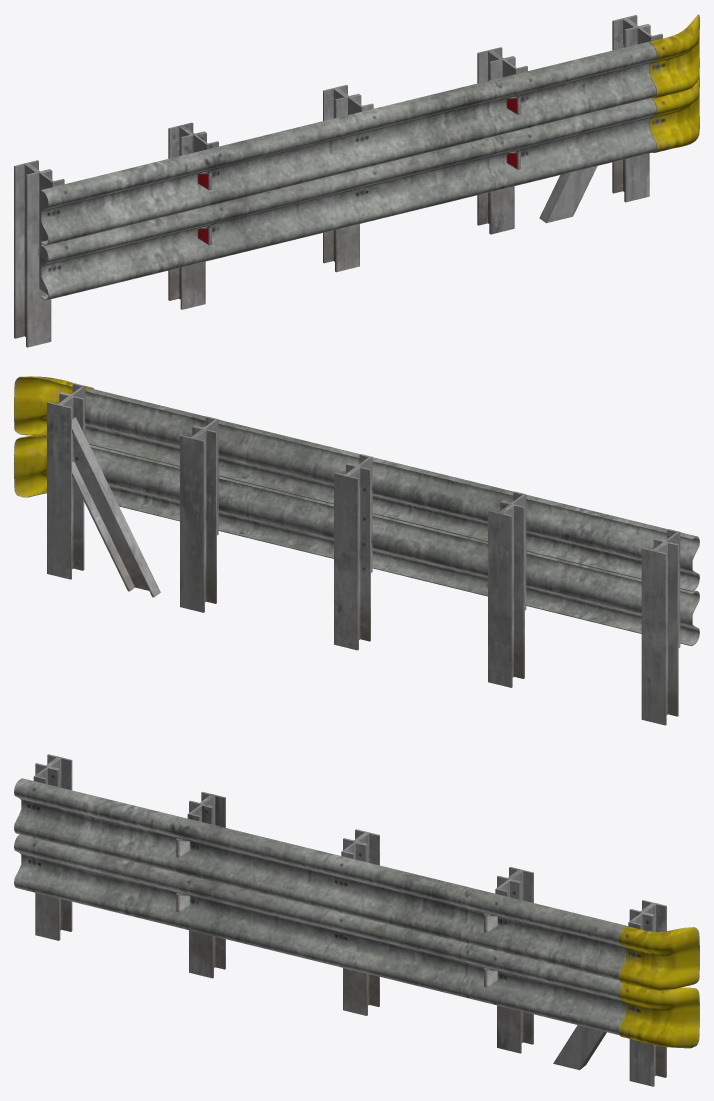
File: guardrail-terminal.glb
The picture shows the model from 3 angles, top to bottom: view 1: azimuth 30°, elevation 25°; view 2: azimuth 150°, elevation 25°; view 3: azimuth 330°, elevation 25°; orthographic projection.
Visible parts, largest first — view 1: GuardRail, GuardRail_terminal; view 2: GuardRail, GuardRail_terminal; view 3: GuardRail, GuardRail_terminal.
Boxes of the visible parts, <box> form: GuardRail: <box>14,41,656,347</box>; GuardRail_terminal: <box>539,14,699,223</box>; GuardRail: <box>85,388,699,725</box>; GuardRail_terminal: <box>14,376,160,597</box>; GuardRail: <box>14,754,627,1053</box>; GuardRail_terminal: <box>553,900,699,1086</box>.
Bounding box in the file's own units: 4.34 × 1.09 × 0.3973.
Materials: 1 (1 with a texture image).
